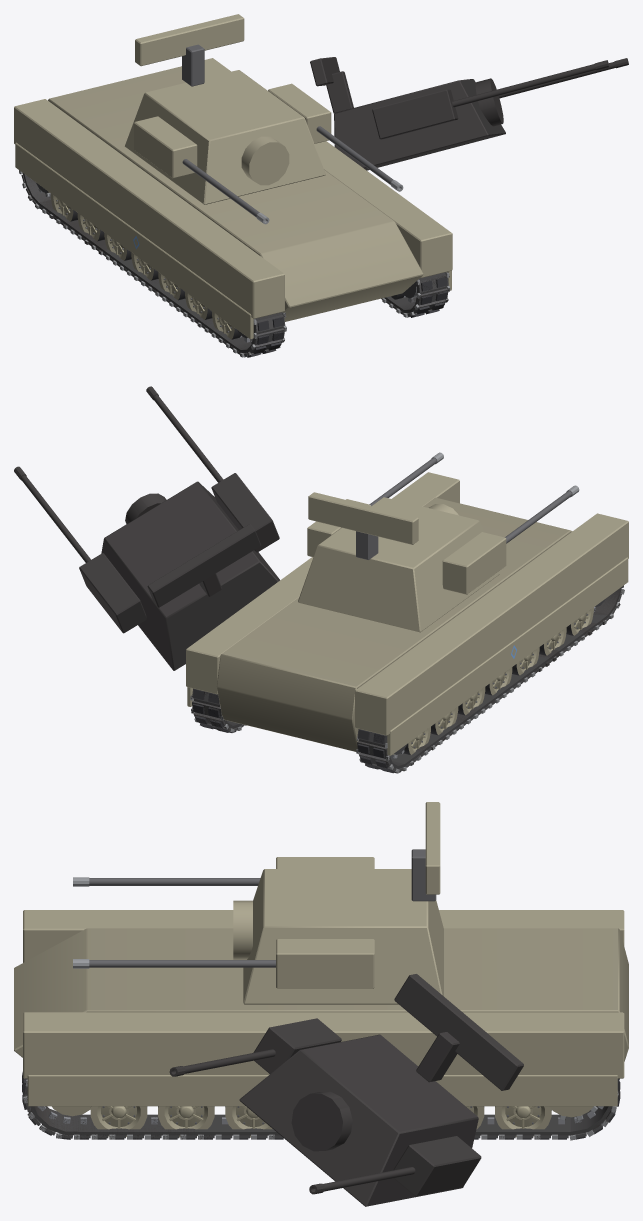
Rendered from aaVehicle__type_87_spaag.glb.
3 views of the same model, one above another, from view 1: azimuth 30°, elevation 25°; view 2: azimuth 150°, elevation 25°; view 3: azimuth 270°, elevation 25° (orthographic). The views are drawn at different scales.
Parts seen in each view (by area): view 1: Hull_Mesh, Turret_Mesh, Wreck, Gun_Mesh, Track_L_Mesh, Track_R_Mesh; view 2: Hull_Mesh, Wreck, Turret_Mesh, Gun_Mesh, Track_L_Mesh, Track_R_Mesh; view 3: Hull_Mesh, Wreck, Turret_Mesh, Gun_Mesh, Track_R_Mesh, Wheel_R6_Mesh, Wheel_R5_Mesh, Wheel_R0_Mesh, Wheel_R4_Mesh.
Part boxes in pixels (box(x1,y1,x2,y2)): Hull_Mesh: box(14, 58, 452, 339); Turret_Mesh: box(124, 14, 325, 204); Wreck: box(20, 57, 628, 356); Gun_Mesh: box(134, 83, 403, 224); Track_L_Mesh: box(19, 170, 286, 357); Track_R_Mesh: box(381, 272, 450, 317); Hull_Mesh: box(186, 472, 628, 755); Wreck: box(14, 386, 623, 772); Turret_Mesh: box(298, 492, 500, 632); Gun_Mesh: box(307, 452, 579, 594); Track_L_Mesh: box(356, 585, 624, 773); Track_R_Mesh: box(190, 689, 246, 732); Hull_Mesh: box(14, 910, 628, 1106); Wreck: box(22, 974, 620, 1206); Turret_Mesh: box(233, 802, 443, 1004); Gun_Mesh: box(73, 857, 374, 988); Track_R_Mesh: box(22, 1072, 620, 1140); Wheel_R6_Mesh: box(90, 1106, 147, 1136); Wheel_R5_Mesh: box(158, 1106, 214, 1137); Wheel_R0_Mesh: box(495, 1106, 551, 1137); Wheel_R4_Mesh: box(225, 1106, 272, 1137).
Size of what is drawn, in the model's own units: 8.7 by 3.34 by 7.48.
